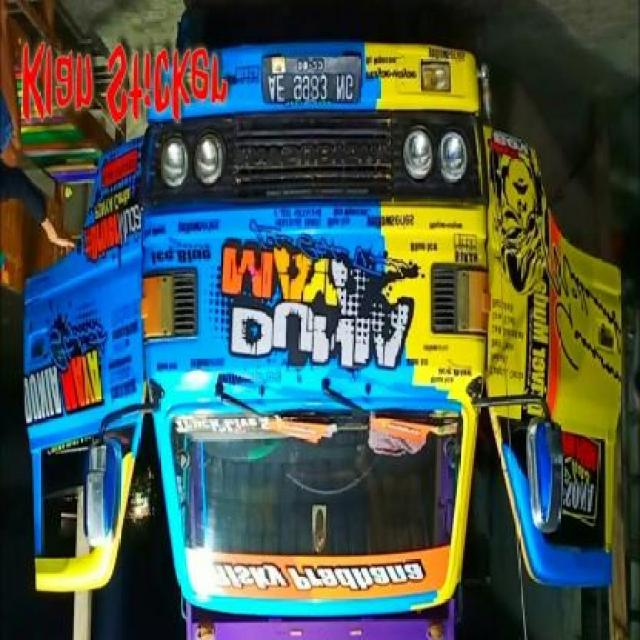truck: (24, 3, 627, 621)
